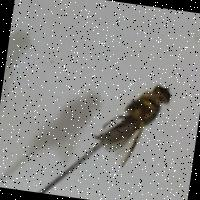Oriental-fruit-fly: (77, 72, 186, 181)
